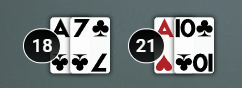10: (173, 15, 196, 42)
7: (67, 14, 91, 43)
a: (48, 15, 73, 42), (152, 15, 176, 42)
